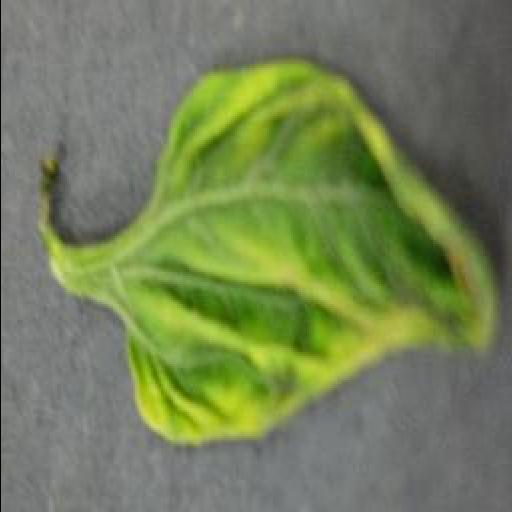disease_tomato: (124, 54, 498, 448)
